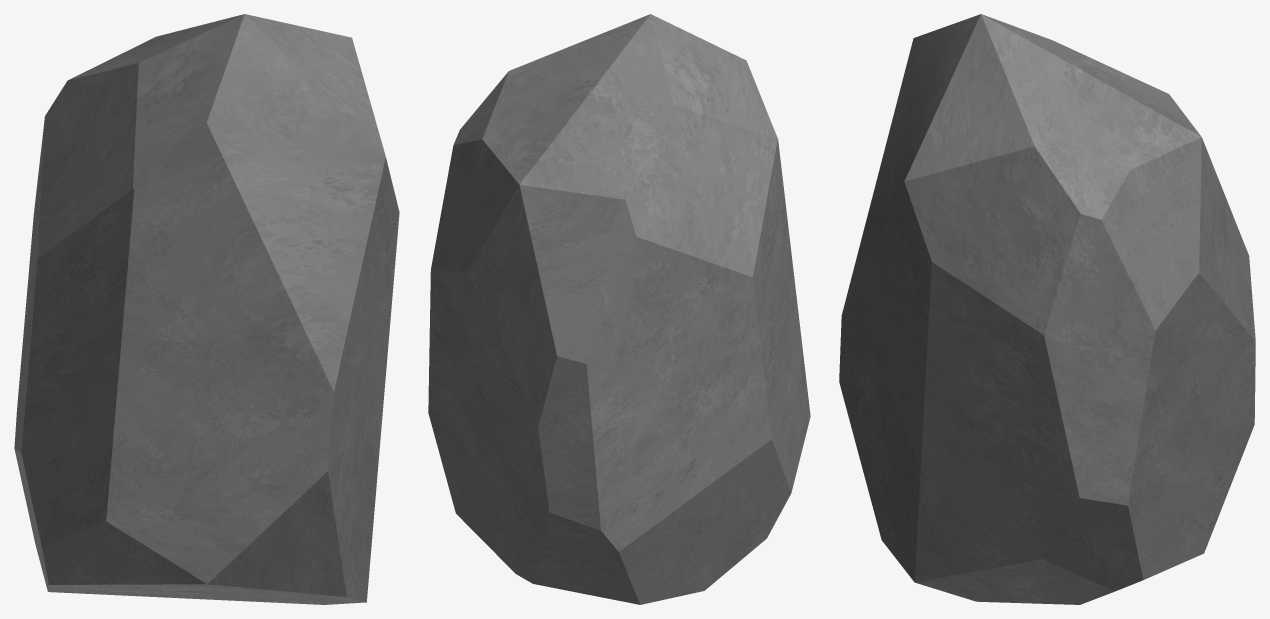
File: Rock_5.fbx
3 renders of one model, left to right at view 1: azimuth 30°, elevation 25°; view 2: azimuth 150°, elevation 25°; view 3: azimuth 270°, elevation 25°, orthographic. The views are drawn at different scales.
Parts seen in each view (by area): view 1: Rock.011; view 2: Rock.011; view 3: Rock.011.
Boxes of the visible parts, x1,y1,x2,y2 form: Rock.011: (14,14,399,604); Rock.011: (428,14,810,604); Rock.011: (839,14,1255,604).
Bounding box in the file's own units: 113 × 176 × 120.
